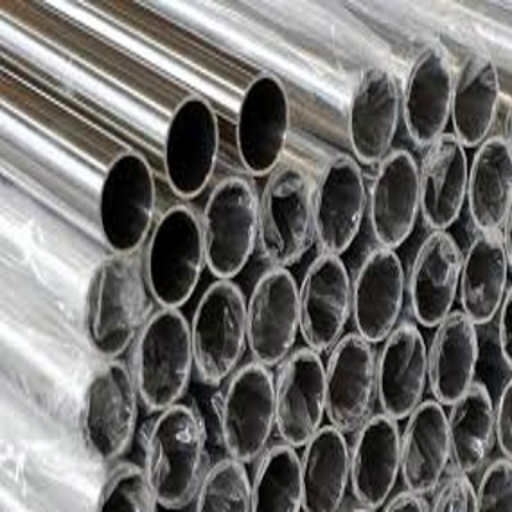Circle: (100, 153, 154, 250), (148, 210, 202, 304), (239, 74, 288, 175), (195, 277, 244, 378), (87, 260, 140, 353), (148, 408, 199, 503), (138, 312, 189, 406), (168, 95, 215, 194), (317, 153, 363, 250), (264, 168, 312, 260), (372, 153, 419, 245), (225, 368, 274, 456), (301, 257, 349, 346), (355, 251, 403, 339), (249, 272, 297, 359), (207, 184, 254, 272), (413, 236, 460, 320), (351, 72, 396, 159), (281, 355, 325, 442), (407, 48, 450, 136), (328, 339, 371, 425), (355, 420, 398, 506), (463, 233, 506, 317), (406, 406, 448, 492), (424, 136, 464, 226), (383, 328, 424, 414), (456, 52, 496, 139), (472, 139, 511, 228), (91, 372, 132, 454), (433, 319, 475, 398), (306, 431, 346, 511), (455, 390, 492, 471), (255, 448, 303, 510), (98, 469, 154, 510), (201, 464, 248, 508), (481, 463, 511, 511), (440, 481, 476, 511), (499, 386, 511, 453), (500, 293, 511, 364), (394, 495, 424, 511)
